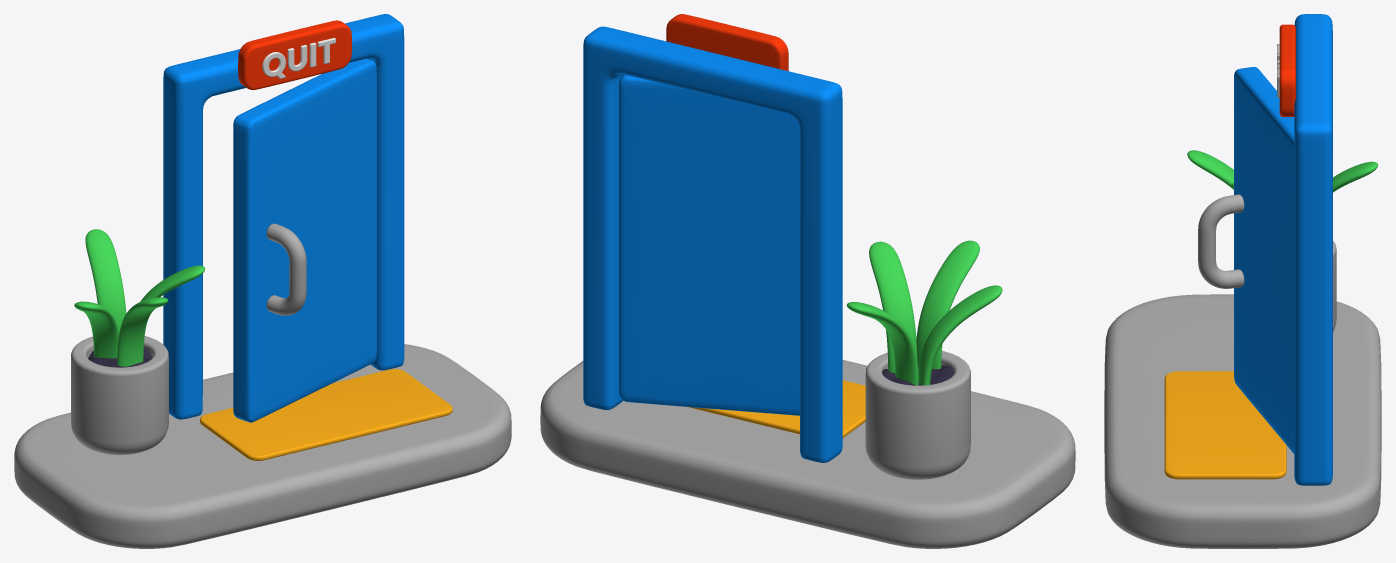
Rendered from quit-animated-3d-icon-88373685059.glb.
3 renders of one model, left to right at view 1: azimuth 30°, elevation 25°; view 2: azimuth 150°, elevation 25°; view 3: azimuth 270°, elevation 25°, orthographic. The views are drawn at different scales.
Visible parts, largest first — view 1: Floor, Door.001, Frame.001, Mat, Pot, Base.004, Foliage 4, Handle.001, Foliage 2, Foliage 3, Text Quit, Foliage 1; view 2: Door.001, Floor, Frame.001, Pot, Base.004, Foliage 2, Foliage 1, Mat, Foliage 3, Foliage 4; view 3: Floor, Door.001, Frame.001, Mat, Handle.001, Base.004, Foliage 2, Foliage 4.
Boxes of the visible parts, x1=… form: Floor: x1=14, y1=344, x2=511, y2=548; Door.001: x1=233, y1=58, x2=376, y2=422; Frame.001: x1=163, y1=14, x2=404, y2=419; Mat: x1=200, y1=369, x2=452, y2=460; Pot: x1=71, y1=336, x2=168, y2=454; Base.004: x1=238, y1=20, x2=351, y2=90; Foliage 4: x1=85, y1=229, x2=126, y2=333; Handle.001: x1=266, y1=223, x2=306, y2=315; Foliage 2: x1=117, y1=297, x2=168, y2=366; Foliage 3: x1=74, y1=301, x2=118, y2=358; Text Quit: x1=262, y1=38, x2=335, y2=78; Foliage 1: x1=140, y1=265, x2=204, y2=301; Door.001: x1=619, y1=74, x2=799, y2=415; Floor: x1=540, y1=360, x2=1075, y2=548; Frame.001: x1=583, y1=26, x2=842, y2=462; Pot: x1=865, y1=351, x2=970, y2=479; Base.004: x1=666, y1=14, x2=788, y2=70; Foliage 2: x1=916, y1=240, x2=979, y2=369; Foliage 1: x1=869, y1=241, x2=917, y2=372; Mat: x1=688, y1=380, x2=865, y2=437; Foliage 3: x1=918, y1=285, x2=1002, y2=385; Foliage 4: x1=846, y1=302, x2=918, y2=385; Floor: x1=1104, y1=294, x2=1381, y2=548; Door.001: x1=1234, y1=67, x2=1294, y2=453; Frame.001: x1=1294, y1=14, x2=1332, y2=485; Mat: x1=1164, y1=371, x2=1286, y2=479; Handle.001: x1=1198, y1=194, x2=1244, y2=288; Base.004: x1=1279, y1=24, x2=1295, y2=116; Foliage 2: x1=1187, y1=150, x2=1233, y2=189; Foliage 4: x1=1333, y1=161, x2=1377, y2=192.
Bounding box in the file's own units: 2.29 × 2.05 × 1.22.
